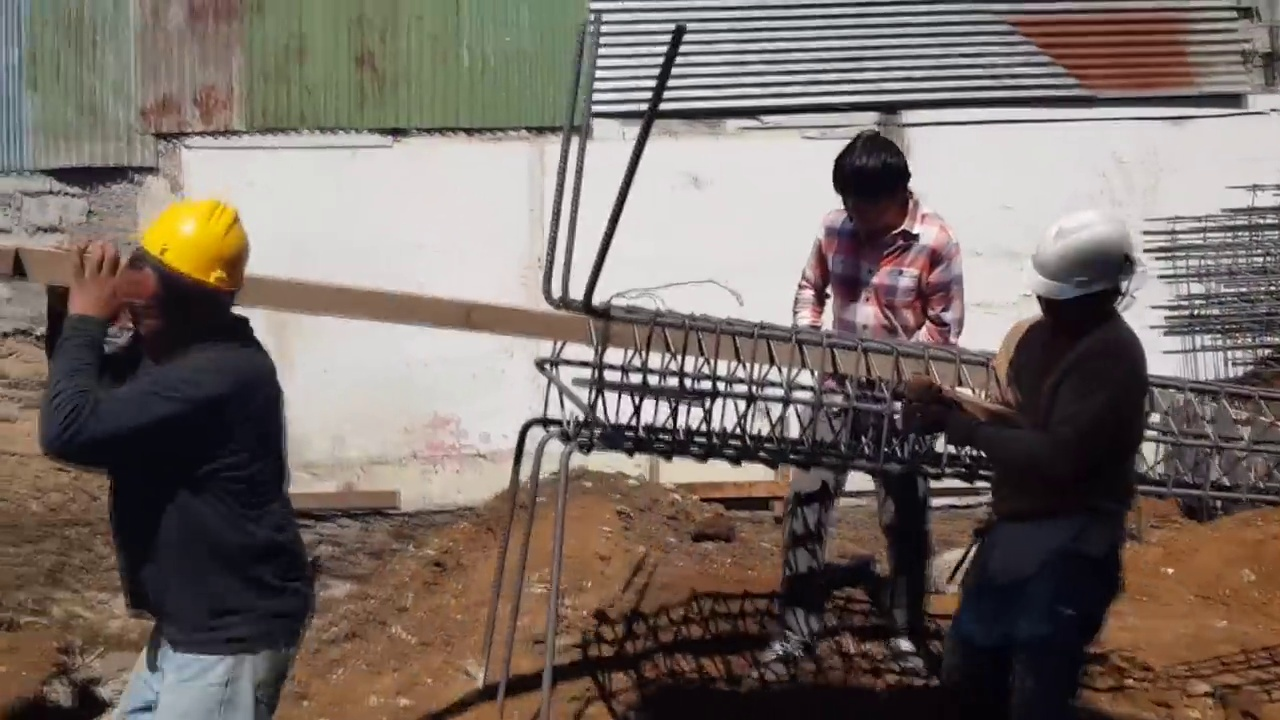helmet: (1022, 212, 1146, 311), (121, 196, 236, 290)
helmet-off: (829, 127, 921, 248)
helmet-on: (115, 196, 255, 363), (1026, 217, 1164, 336)
person: (35, 187, 310, 720), (753, 107, 974, 687), (940, 197, 1159, 692)
